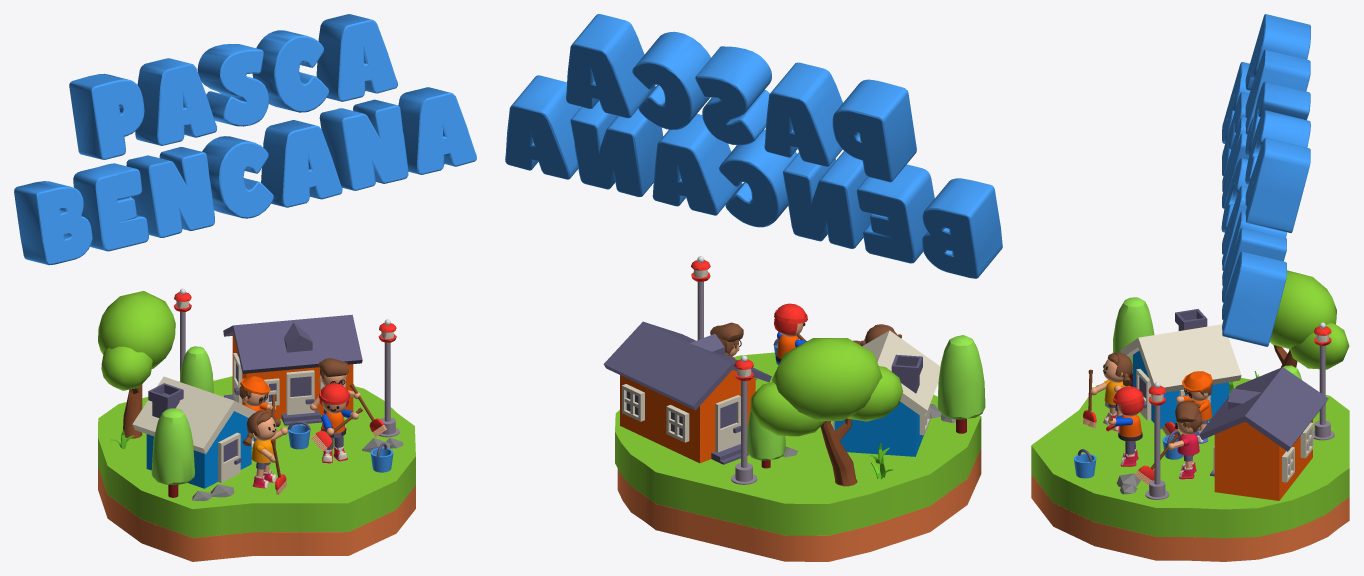
The picture shows the model from 3 angles, left to right: view 1: azimuth 30°, elevation 25°; view 2: azimuth 150°, elevation 25°; view 3: azimuth 270°, elevation 25°; orthographic projection. The views are drawn at different scales.
Parts seen in each view (by area): view 1: Text, Plane.002, Plane.001, Cube.148, Icosphere.003, Cube.102, Cylinder.045, Cube.103, Icosphere.001, Cube.149, Cylinder.080, Cube.146 (+6 smaller); view 2: Text, Plane.002, Plane.001, Icosphere.003, Cube.148, Cube.149, Cylinder.045, Cube.103, Cube.102, Icosphere.002, Icosphere.001, Cylinder.061 (+7 smaller); view 3: Text, Plane.002, Plane.001, Cube.148, Cube.149, Cube.102, Icosphere.003, Cylinder.045, Icosphere.002, Cube.103, Cylinder.051, Cylinder.052 (+6 smaller).
Part boxes in pixels (x1,y1,x2,y2): Text: (14, 14, 476, 265); Plane.002: (98, 376, 415, 537); Plane.001: (98, 467, 415, 561); Cube.148: (223, 314, 362, 373); Icosphere.003: (98, 291, 175, 368); Cube.102: (132, 376, 256, 454); Cylinder.045: (151, 408, 194, 484); Cube.103: (146, 411, 251, 488); Icosphere.001: (101, 346, 152, 390); Cube.149: (232, 334, 353, 418); Cylinder.080: (179, 346, 213, 393); Cube.146: (286, 370, 314, 415); Text: (505, 14, 1002, 278); Plane.002: (615, 352, 981, 535); Plane.001: (617, 448, 981, 561); Icosphere.003: (772, 338, 882, 421); Cube.148: (603, 321, 771, 410); Cube.149: (620, 370, 755, 463); Cylinder.045: (937, 335, 985, 419); Cube.103: (834, 401, 923, 456); Cube.102: (862, 330, 940, 417); Icosphere.002: (750, 382, 824, 436); Icosphere.001: (847, 366, 903, 421); Cylinder.061: (820, 418, 857, 486); Text: (1221, 14, 1310, 346); Plane.002: (1031, 378, 1349, 538); Plane.001: (1031, 474, 1349, 561); Cube.148: (1199, 367, 1328, 451); Cube.149: (1214, 420, 1312, 500); Cube.102: (1120, 324, 1241, 392); Icosphere.003: (1270, 270, 1336, 348); Cylinder.045: (1113, 297, 1154, 373); Icosphere.002: (1290, 323, 1349, 369); Cube.103: (1133, 350, 1229, 428); Cylinder.051: (1145, 405, 1169, 499); Cylinder.052: (1313, 345, 1334, 440).
Bounding box in the file's own units: 0.3437 × 0.3172 × 0.2192.
